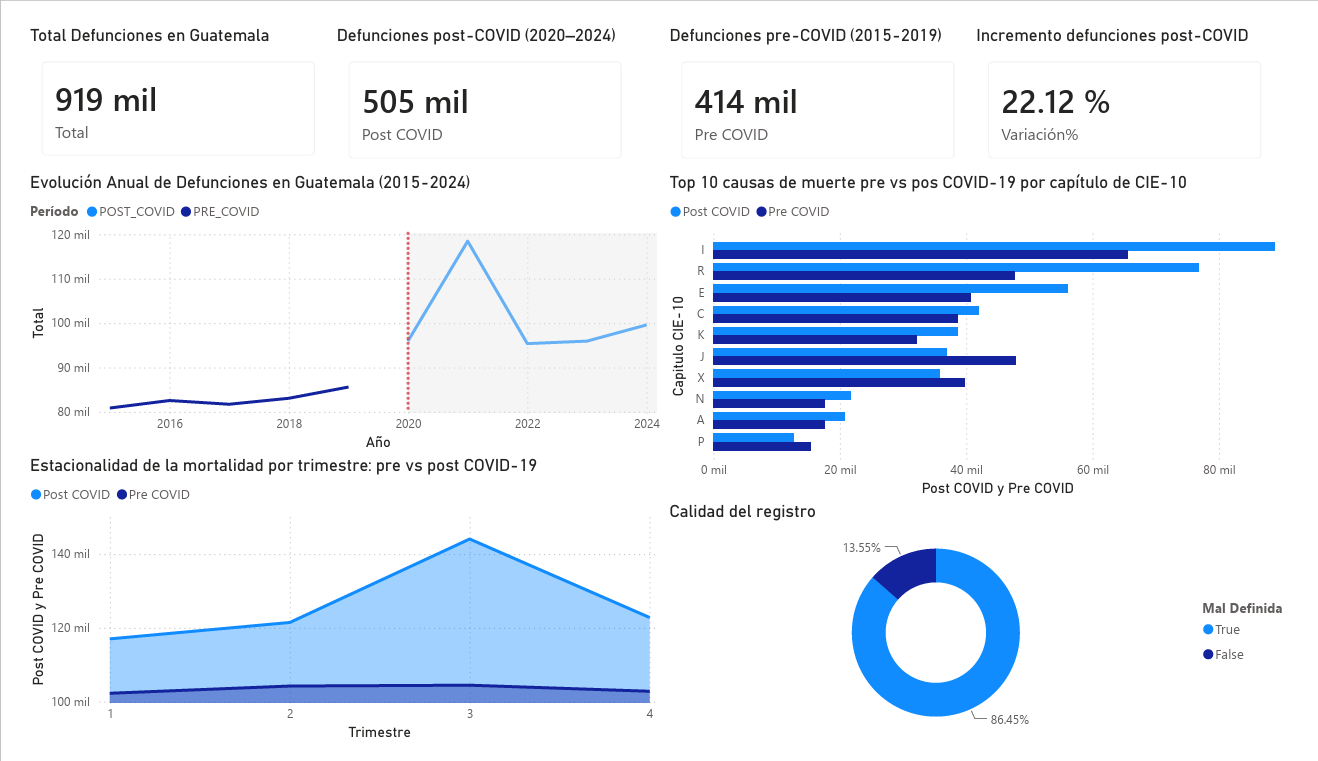

The page's visual inventory and layout, read from the dashboard file:
{"tool":"powerbi","page":{"name":"Ejecutivo COVID","canvas":[1280,720],"ordinal":0},"visuals":[{"type":"cardVisual","title":"Total Defunciones en Guatemala","fields":{"Data":["dataset_mensual_depto_causa.Total"]},"box":[0,0,307,147],"z":0},{"type":"cardVisual","title":"Defunciones post-COVID (2020–2024)","fields":{"Data":["dataset_mensual_depto_causa.PostCOVID"]},"box":[307,0,307,150],"z":1000},{"type":"cardVisual","title":"Defunciones pre-COVID (2015-2019)","fields":{"Data":["dataset_mensual_depto_causa.PreCOVID"]},"box":[640,0,307,150],"z":2000},{"type":"cardVisual","title":"Incremento defunciones post-COVID","fields":{"Data":["dataset_mensual_depto_causa.Variación%"]},"box":[947,0,307,150],"z":3000},{"type":"lineChart","title":"Evolución Anual de Defunciones en Guatemala (2015-2024)","fields":{"Category":["dataset_mensual_depto_causa.anio"],"Series":["dataset_mensual_depto_causa.periodo"],"Y":["dataset_mensual_depto_causa.Total"]},"box":[0,147,640,283],"z":4000},{"type":"clusteredBarChart","title":"Top 10 causas de muerte pre vs pos COVID-19 por capítulo de CIE-10","fields":{"Y":["dataset_mensual_depto_causa.PostCOVID","dataset_mensual_depto_causa.PreCOVID"],"Category":["dataset_mensual_depto_causa.capitulo_1"]},"box":[640,147,640,329],"z":5000},{"type":"donutChart","title":"Calidad del registro","fields":{"Category":["dataset_defunciones.mal_definida"],"Y":["dataset_defunciones.PctMalDef"]},"box":[640,476,640,244],"z":6000},{"type":"areaChart","title":"Estacionalidad de la mortalidad por trimestre: pre vs post COVID-19","fields":{"Category":["dataset_mensual_depto_causa.trimestre"],"Y":["dataset_mensual_depto_causa.PostCOVID","dataset_mensual_depto_causa.PreCOVID"]},"box":[0,430,640,290],"z":7000}]}

Visuals, with their boxes in screenshot pixels (x1, y1, x2, y2), scaled from the page's 1280x720 canvas onto the 1318x761 screenshot:
"Total Defunciones en Guatemala" cardVisual: <region>0, 0, 316, 155</region>
"Defunciones post-COVID (2020–2024)" cardVisual: <region>316, 0, 632, 159</region>
"Defunciones pre-COVID (2015-2019)" cardVisual: <region>659, 0, 975, 159</region>
"Incremento defunciones post-COVID" cardVisual: <region>975, 0, 1291, 159</region>
"Evolución Anual de Defunciones en Guatemala (2015-2024)" lineChart: <region>0, 155, 659, 454</region>
"Top 10 causas de muerte pre vs pos COVID-19 por capítulo de CIE-10" clusteredBarChart: <region>659, 155, 1317, 503</region>
"Calidad del registro" donutChart: <region>659, 503, 1317, 760</region>
"Estacionalidad de la mortalidad por trimestre: pre vs post COVID-19" areaChart: <region>0, 454, 659, 760</region>
